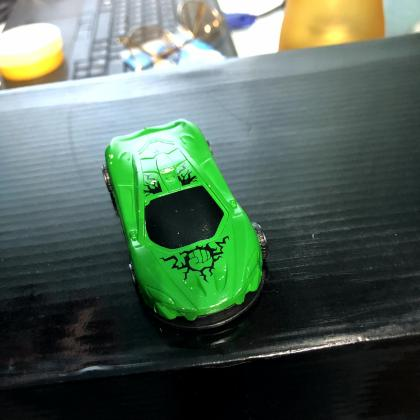Car: (98, 115, 274, 344)
